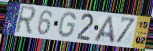2: (76, 12, 94, 42)
6: (37, 9, 54, 36)
7: (115, 16, 137, 45)
A: (92, 15, 117, 45)
G: (58, 11, 77, 39)
R: (14, 5, 38, 36)
